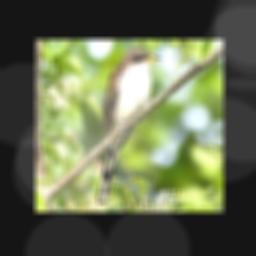Cuckoo: (97, 47, 161, 203)
